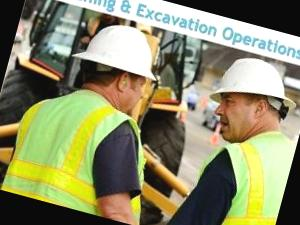helmet: (65, 13, 178, 92), (205, 50, 300, 119)
person: (2, 2, 198, 216), (158, 47, 300, 225)
